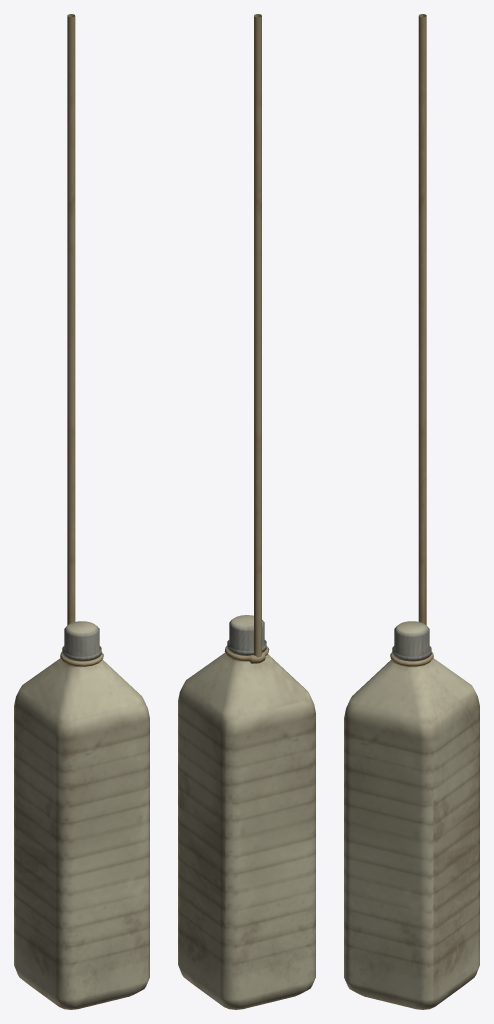
Rendered from SM_bottle.fbx.
The picture shows the model from 3 angles, left to right: view 1: azimuth 30°, elevation 25°; view 2: azimuth 210°, elevation 25°; view 3: azimuth 330°, elevation 25°; orthographic projection.
Visible parts, largest first — view 1: SM_bottle_LOD0; view 2: SM_bottle_LOD0; view 3: SM_bottle_LOD0.
Part boxes in pixels (x1,y1,x2,y2): SM_bottle_LOD0: (14, 14, 149, 1009); SM_bottle_LOD0: (178, 14, 315, 1009); SM_bottle_LOD0: (344, 14, 479, 1009).
Bounding box in the file's own units: 9 × 9 × 90.
